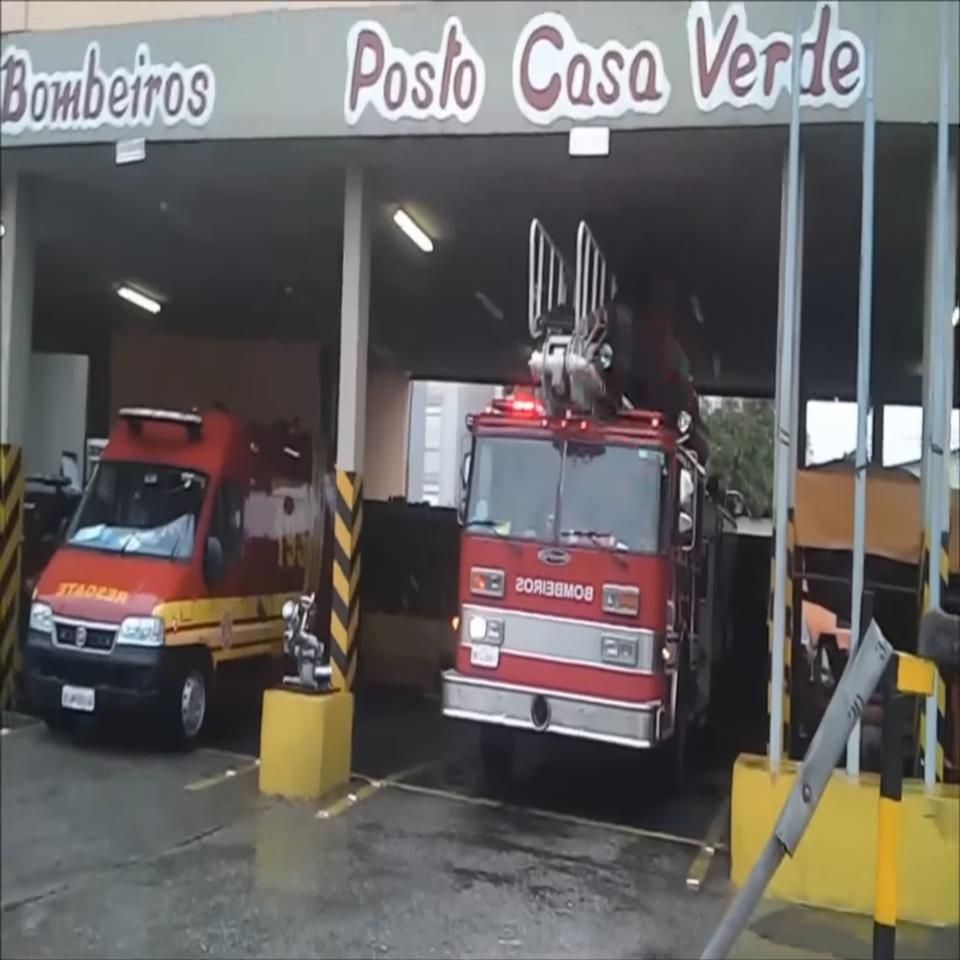viatura: (438, 213, 743, 790)
